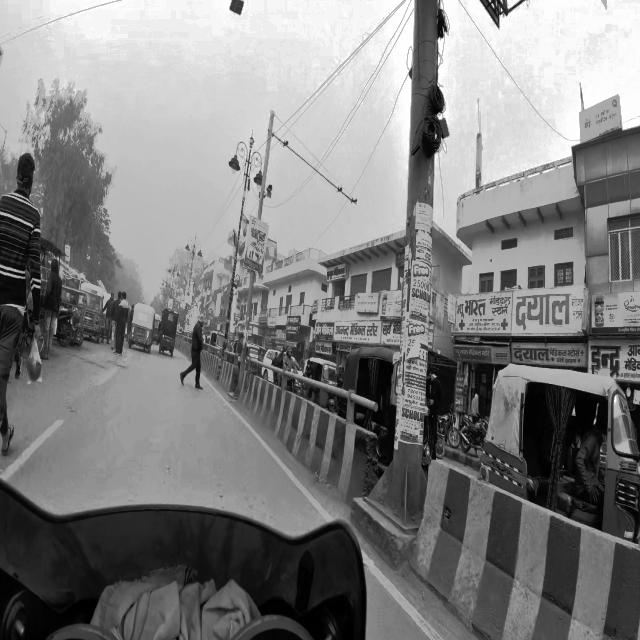Auto-Rickshaw: (485, 357, 640, 545), (340, 326, 407, 411), (302, 352, 339, 413), (128, 300, 156, 356)
Toto: (158, 308, 180, 354)
